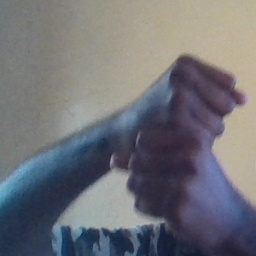G: (121, 48, 247, 221)
